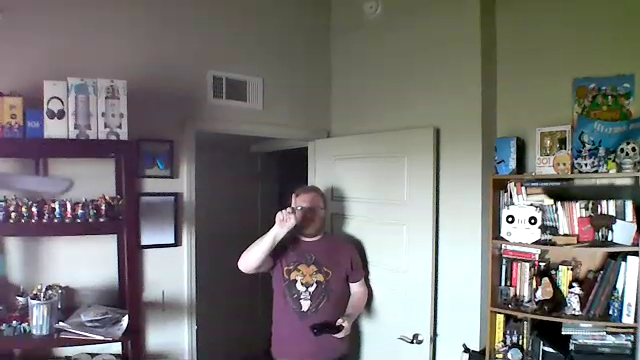up: (272, 192, 304, 227)
